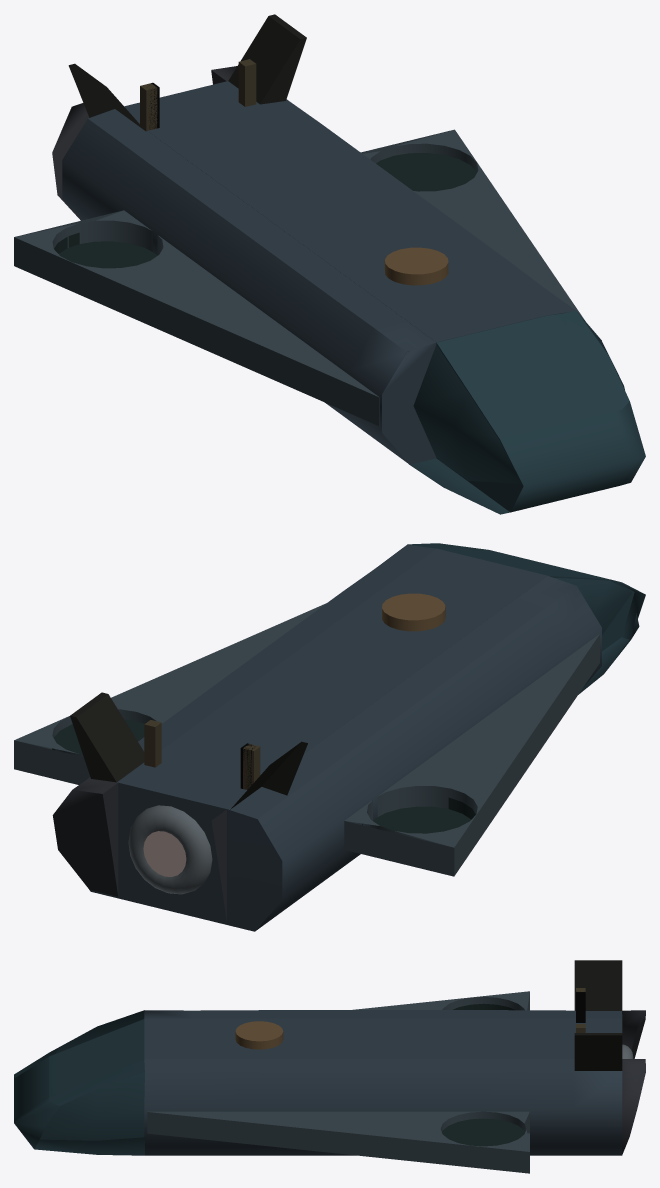
Rendered from spaceship.obj.
3 renders of one model, top to bottom at view 1: azimuth 30°, elevation 25°; view 2: azimuth 150°, elevation 25°; view 3: azimuth 270°, elevation 25°, orthographic. The views are drawn at different scales.
Visible parts, largest first — view 1: pasted__pCube1 group1, pCube2, polySurface4, pCube3, group pasted__pCube7, polySurface1 pCube1, polySurface5, pasted__pCube3 group, pCube4, pCylinder4, pCylinder3, pCylinder1 (+4 smaller); view 2: pasted__pCube1 group1, pCube2, polySurface4, polySurface5, polySurface1 pCube1, pCube1 polySurface2, pTorus1, pCube4, group pasted__pCube7, pCylinder3, pCube3, pCylinder1 (+6 smaller); view 3: polySurface1 pCube1, pCube2, polySurface5, pasted__pCube3 group, pCube3, pasted__pCube1 group1, pCube5, pCube4, pCylinder4, polySurface4, pCube1 polySurface2, pCylinder1 (+2 smaller).
Part boxes in pixels (bbox=[...]): pasted__pCube1 group1: bbox=[62, 109, 436, 464]; pCube2: bbox=[124, 81, 546, 342]; polySurface4: bbox=[14, 210, 379, 426]; pCube3: bbox=[436, 316, 634, 512]; group pasted__pCube7: bbox=[382, 344, 520, 514]; polySurface1 pCube1: bbox=[227, 81, 601, 340]; polySurface5: bbox=[361, 129, 584, 320]; pasted__pCube3 group: bbox=[547, 310, 645, 485]; pCube4: bbox=[228, 14, 306, 104]; pCylinder4: bbox=[376, 153, 476, 191]; pCylinder3: bbox=[54, 232, 157, 268]; pCylinder1: bbox=[384, 247, 448, 285]; pasted__pCube1 group1: bbox=[227, 576, 601, 931]; pCube2: bbox=[117, 548, 547, 924]; polySurface4: bbox=[344, 634, 599, 876]; polySurface5: bbox=[14, 603, 325, 784]; polySurface1 pCube1: bbox=[88, 544, 436, 898]; pCube1 polySurface2: bbox=[52, 778, 118, 896]; pTorus1: bbox=[128, 805, 212, 894]; pCube4: bbox=[70, 692, 144, 782]; group pasted__pCube7: bbox=[555, 578, 645, 694]; pCylinder3: bbox=[362, 797, 475, 833]; pCube3: bbox=[439, 549, 634, 651]; pCylinder1: bbox=[382, 593, 445, 631]; polySurface1 pCube1: bbox=[144, 1059, 622, 1155]; pCube2: bbox=[144, 1018, 622, 1058]; polySurface5: bbox=[147, 1111, 529, 1173]; pasted__pCube3 group: bbox=[14, 1059, 144, 1155]; pCube3: bbox=[14, 1019, 144, 1118]; pasted__pCube1 group1: bbox=[144, 1010, 622, 1018]; pCube5: bbox=[574, 960, 622, 1014]; pCube4: bbox=[574, 1033, 622, 1070]; pCylinder4: bbox=[442, 1118, 524, 1146]; polySurface4: bbox=[353, 991, 529, 1010]; pCube1 polySurface2: bbox=[622, 1059, 645, 1155]; pCylinder1: bbox=[235, 1021, 283, 1049].
Bounding box in the file's own units: 3.98 × 1.48 × 6.61.
